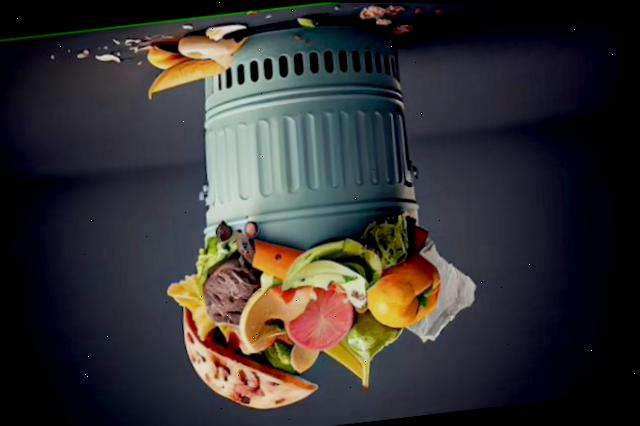Garbage: (163, 211, 483, 408)
